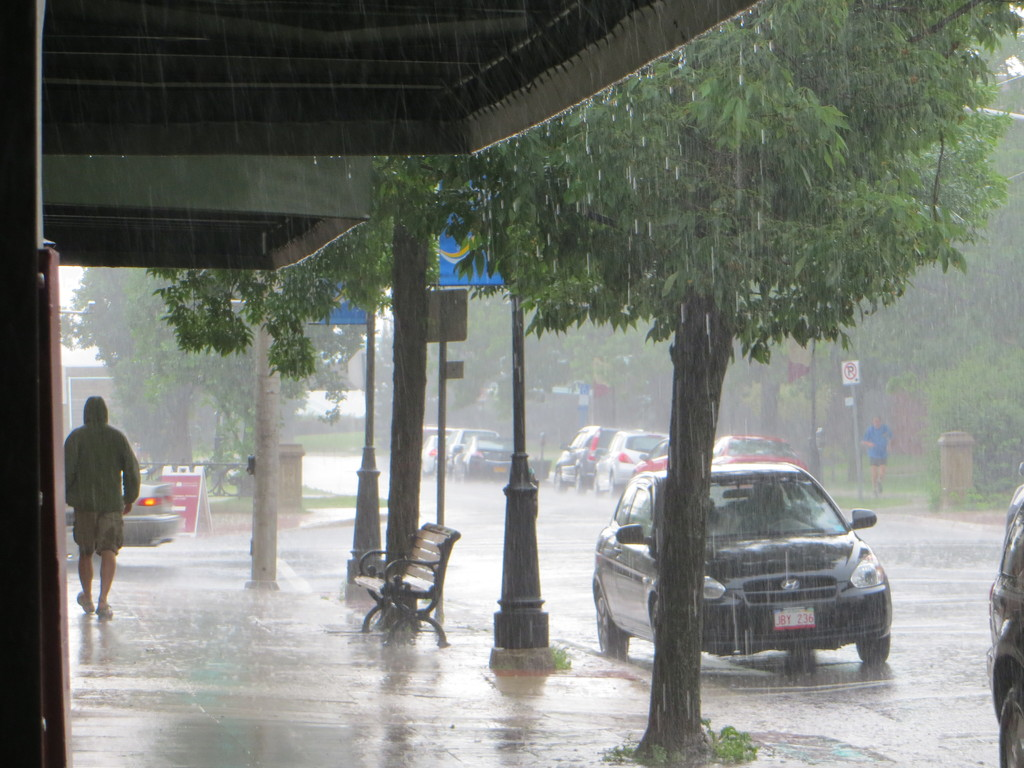Car: (592, 462, 892, 664), (988, 481, 1023, 767), (66, 476, 177, 545), (631, 437, 804, 472), (550, 426, 619, 494), (595, 433, 665, 494), (451, 434, 515, 474), (453, 428, 499, 476), (423, 438, 453, 472)
